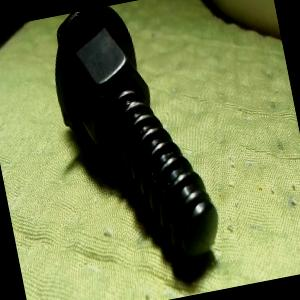parafuso: (40, 0, 225, 283)
